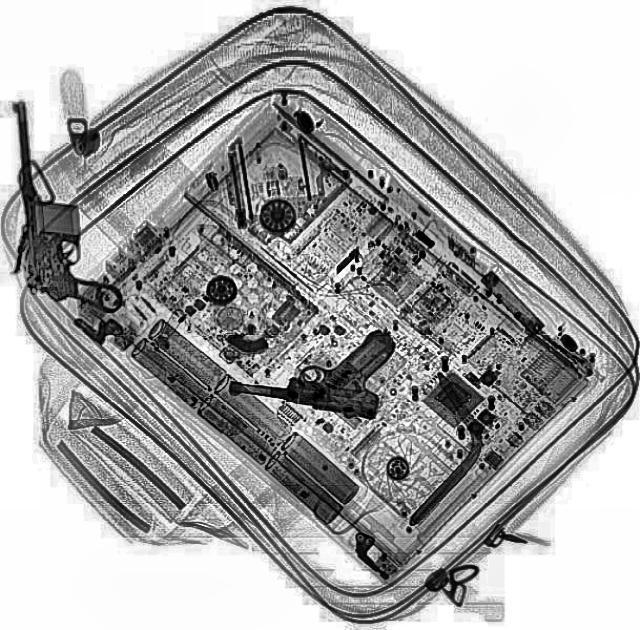Gun: (0, 96, 120, 314), (225, 310, 398, 421)
